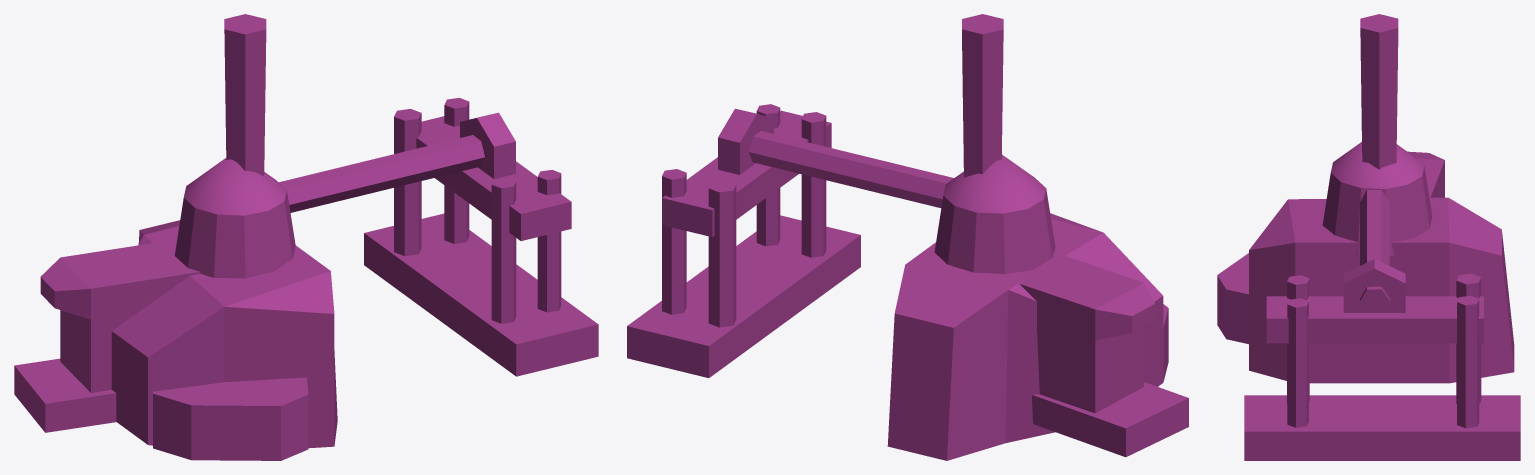
Rendered from SM_Bld_Mine_Wheel_01_Collision.fbx.
3 views of the same model, side by side, from view 1: azimuth 30°, elevation 25°; view 2: azimuth 150°, elevation 25°; view 3: azimuth 270°, elevation 25° (orthographic). The views are drawn at different scales.
Visible parts, largest first — view 1: SM_Bld_Mine_Wheel_01_Collision; view 2: SM_Bld_Mine_Wheel_01_Collision; view 3: SM_Bld_Mine_Wheel_01_Collision.
Part boxes in pixels (x1,y1,x2,y2): SM_Bld_Mine_Wheel_01_Collision: [14, 14, 598, 460]; SM_Bld_Mine_Wheel_01_Collision: [627, 14, 1188, 460]; SM_Bld_Mine_Wheel_01_Collision: [1217, 14, 1520, 460].
Bounding box in the file's own units: 1169 × 866 × 702.
